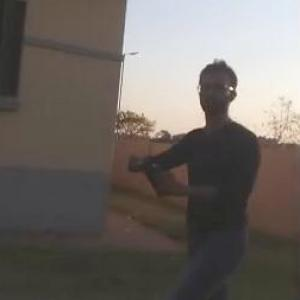follow: (118, 49, 262, 299)
